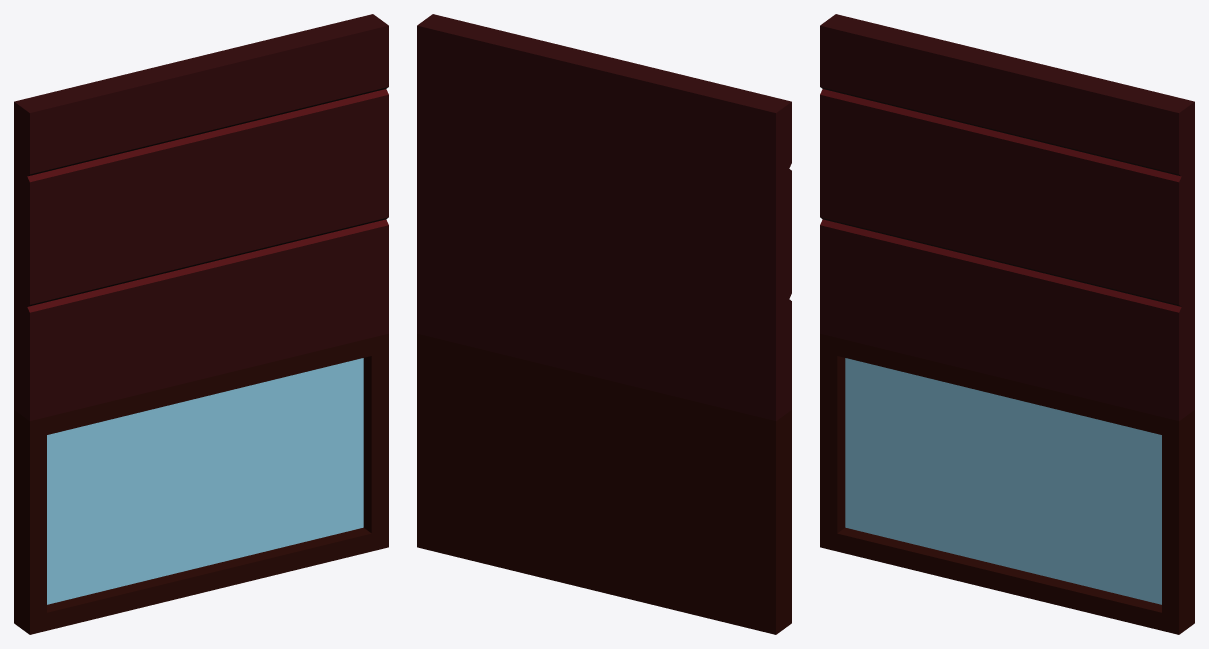
The model's file is Wall_Var1.FBX.
3 renders of one model, left to right at view 1: azimuth 30°, elevation 25°; view 2: azimuth 150°, elevation 25°; view 3: azimuth 330°, elevation 25°, orthographic.
Visible parts, largest first — view 1: Box010; view 2: Box010; view 3: Box010.
Part boxes in pixels (x1,y1,x2,y2): Box010: [14, 14, 388, 634]; Box010: [417, 14, 791, 634]; Box010: [820, 14, 1194, 634].
Size of the model in its own units: 288 by 400 by 22.02.
